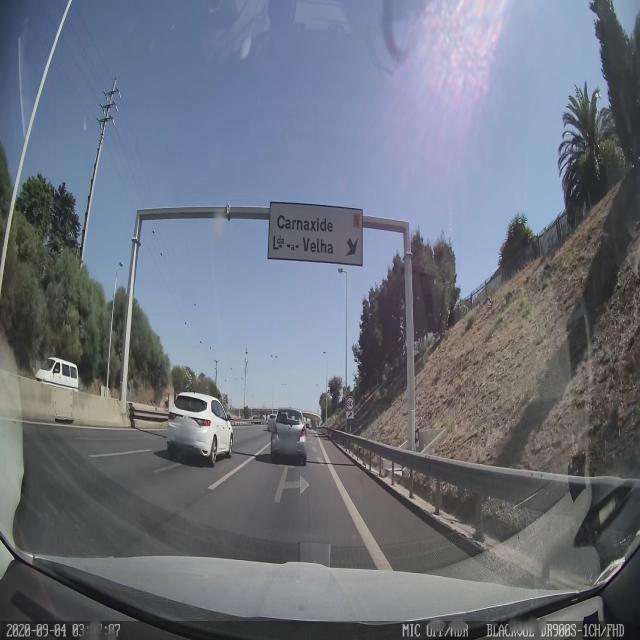car: (166, 390, 233, 466), (270, 406, 307, 464), (34, 357, 80, 390), (266, 413, 276, 432)
